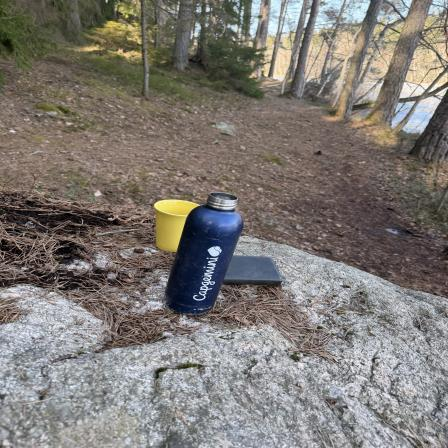blue_bottle: (181, 190, 243, 316)
phone: (193, 249, 292, 288)
yellow_cup: (150, 198, 201, 254)
